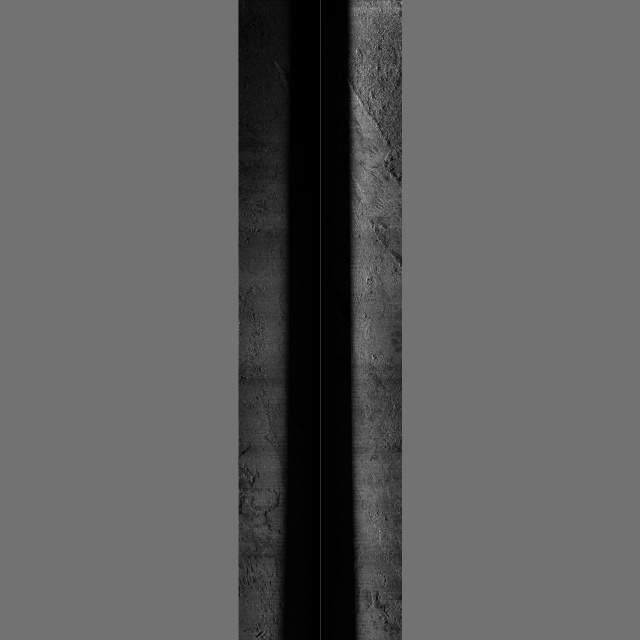Shipwreck: (258, 59, 291, 638)
